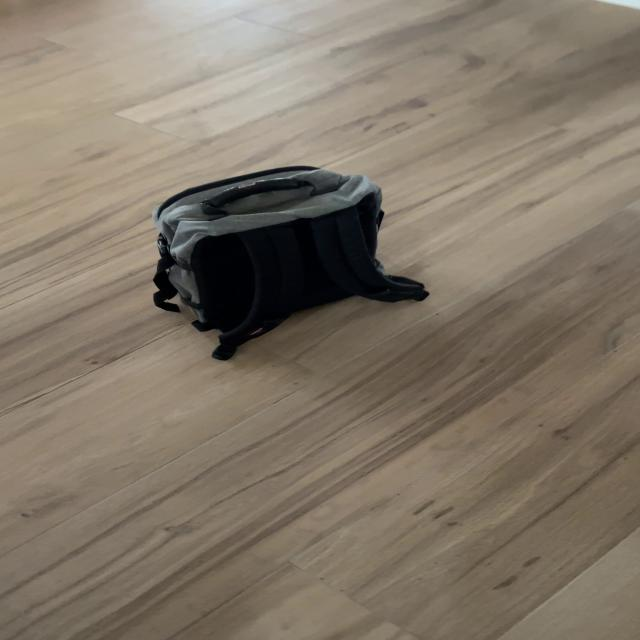backpack: (137, 156, 412, 359)
